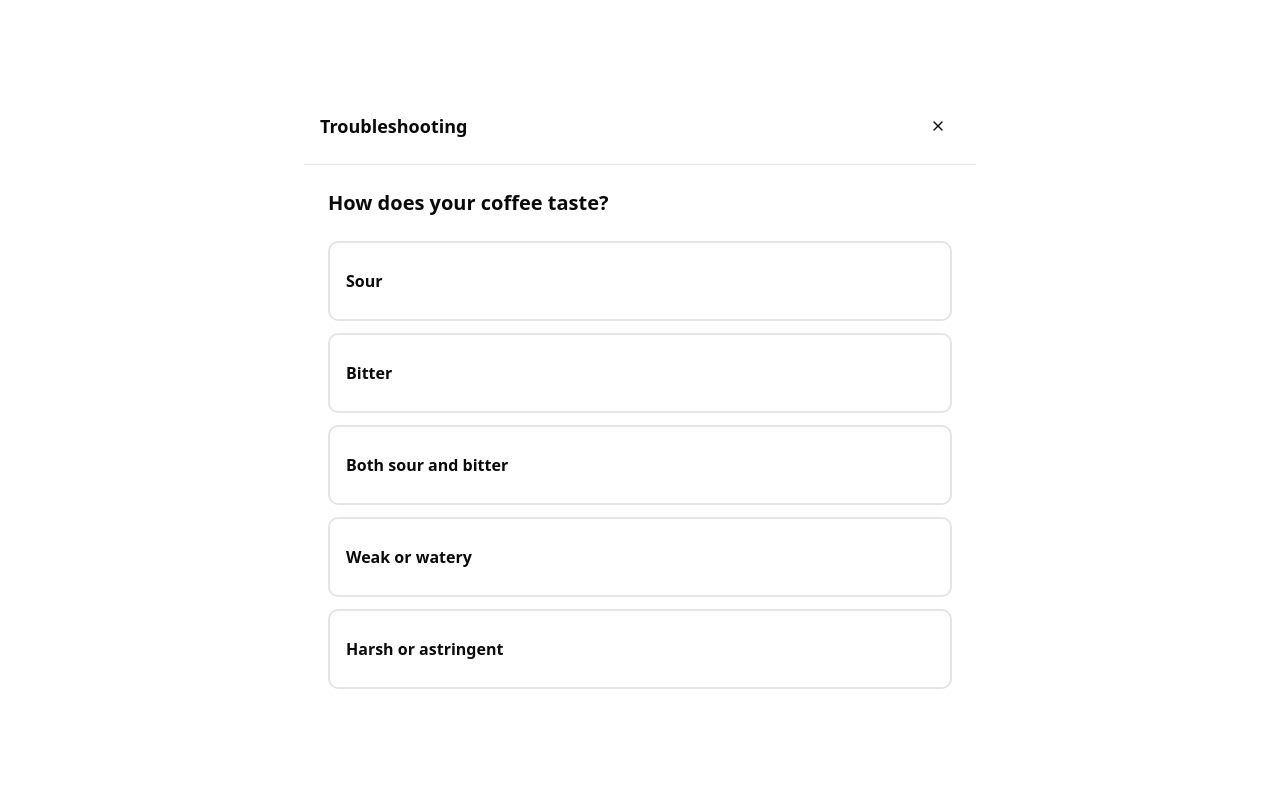
Test case: TroubleshootingTree › displays Try Another Issue button in solution
The width and height of the screenshot is (1280, 800).
Click the button "Sour" at (364, 280), box [328,240,952,320]
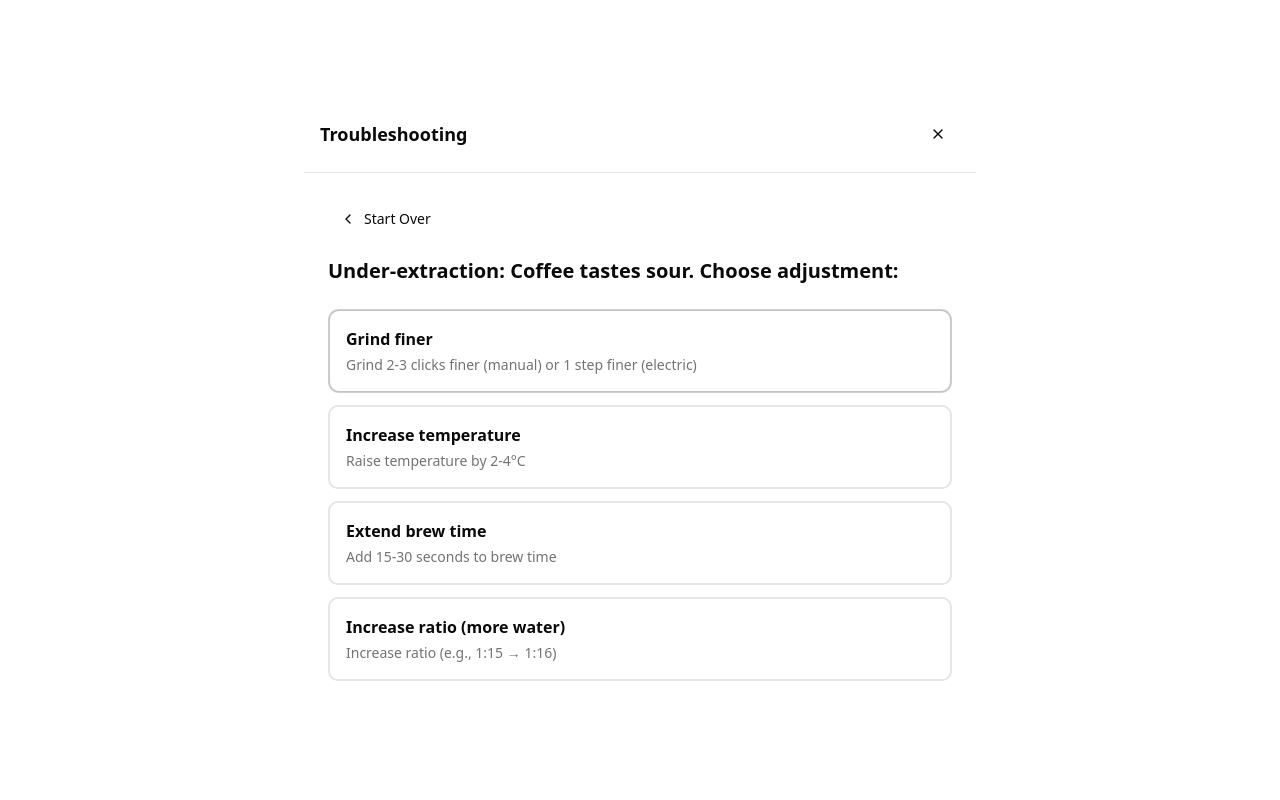
Click the button with aria-label "Grind finer" at (389, 338), box [328,308,952,392]
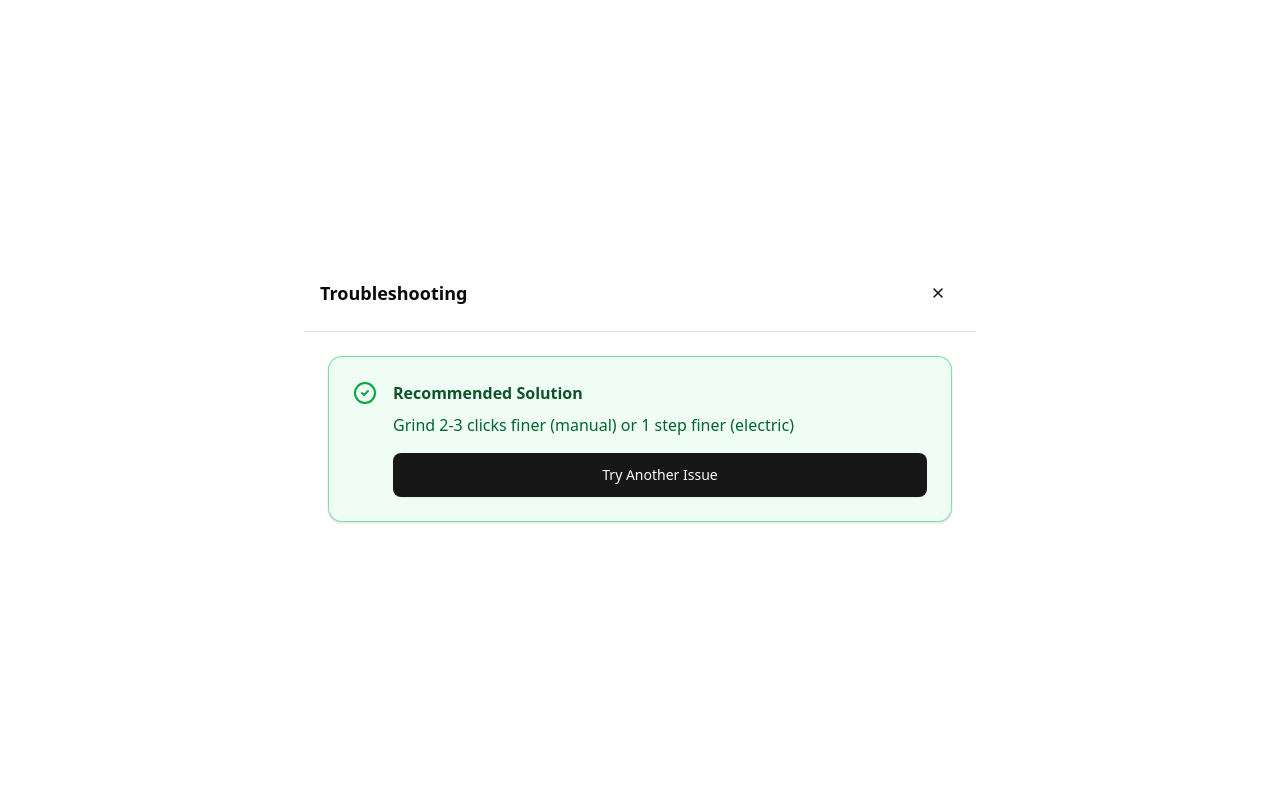
Expected: the button "Try Another Issue" is shown, [393,452,927,496]
